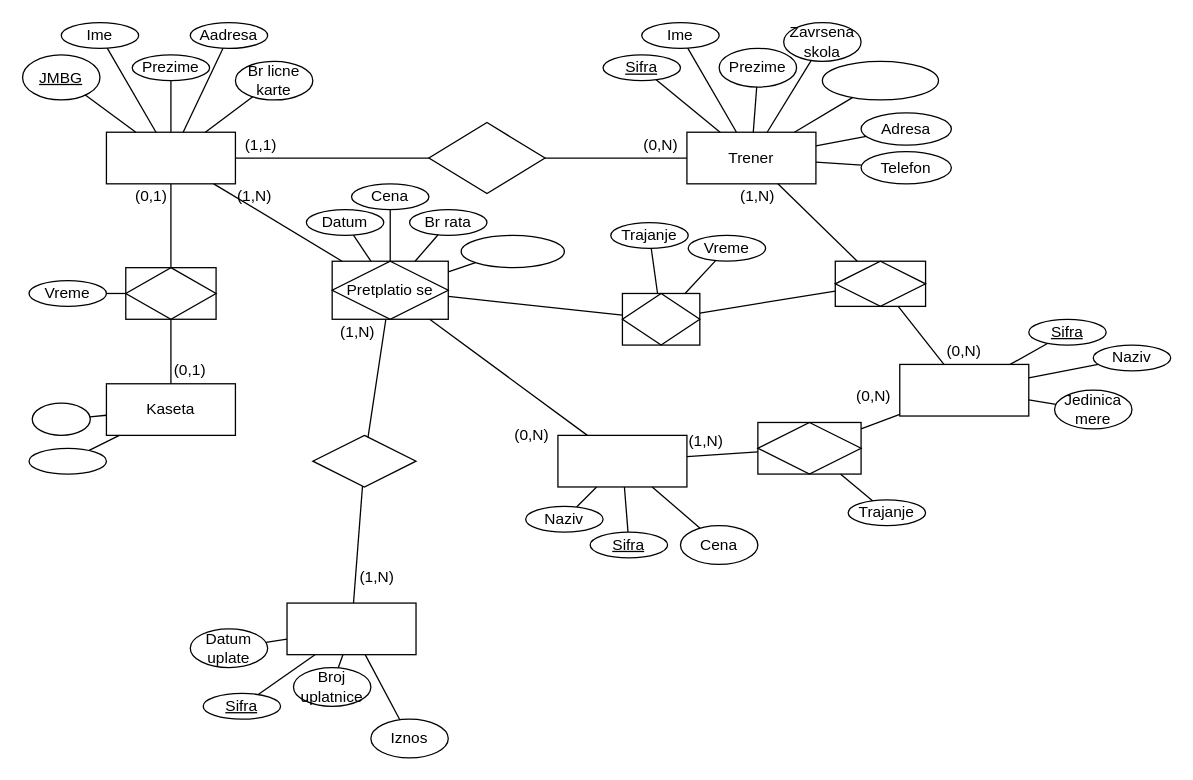
The diagram is 1193 pixels wide and 780 high, and some of its shapes have lost their labels. Here are the shapes that lost their labels. From the top down, the centre of each, then its label:
At point 879,80: "Specijalnost".
At point 170,157: "Klijent".
At point 486,157: "Zaduzen za".
At point 512,251: "Datum zavrsetka".
At point 170,292: "Uzeo kljuc".
At point 880,283: "Sprovodi".
At point 660,318: "Koristi".
At point 963,389: "Tretman".
At point 60,418: "ID".
At point 67,460: "Status".
At point 364,460: "Uplacuje".
At point 622,460: "Program".
At point 809,447: "Obuhvata".
At point 351,628: "Uplata".
